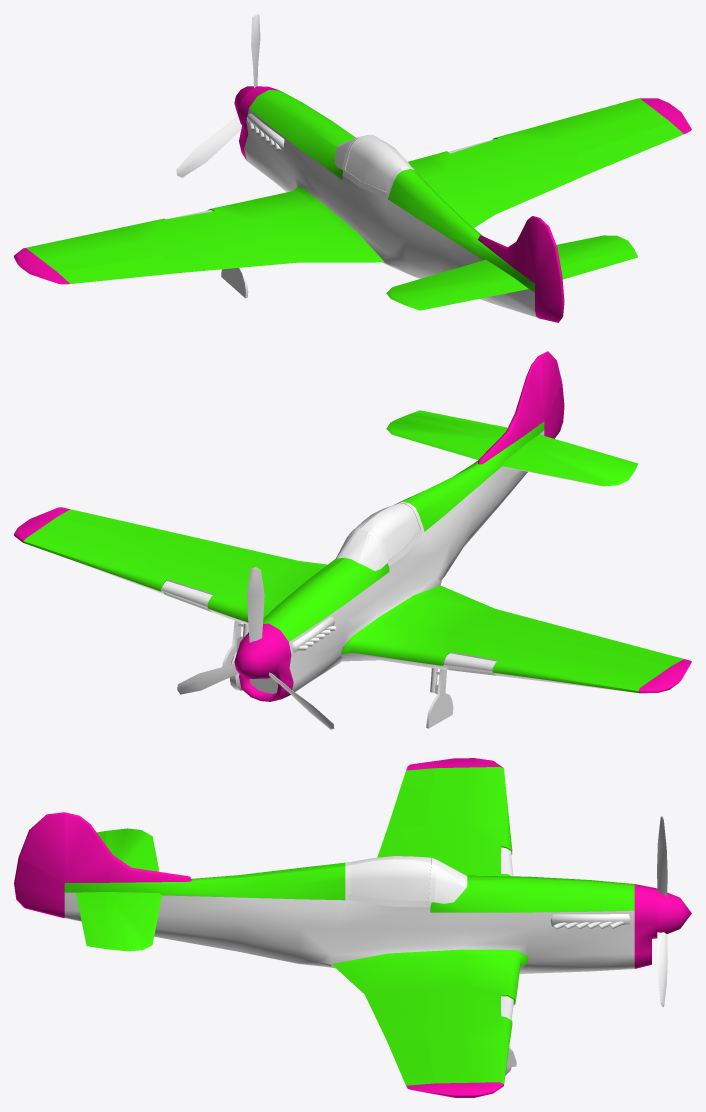
The model's file is acm1pt.FBX.
3 views of the same model, one above another, from view 1: azimuth 30°, elevation 25°; view 2: azimuth 150°, elevation 25°; view 3: azimuth 270°, elevation 25° (orthographic). The views are drawn at different scales.
Parts seen in each view (by area): view 1: chassis, door_lf_ok, elevator_r, rudder, aileron_r, aileron_l, static_prop, gear_l; view 2: chassis, static_prop, door_lf_ok, elevator_r, rudder, aileron_r, aileron_l, gear_l; view 3: chassis, rudder, door_lf_ok, aileron_l, aileron_r, elevator_r, static_prop.
Part boxes in pixels (<box>): chassis: <box>14,86,691,318</box>; door_lf_ok: <box>342,134,413,197</box>; elevator_r: <box>405,248,637,310</box>; rudder: <box>535,218,564,322</box>; aileron_r: <box>575,122,683,171</box>; aileron_l: <box>57,256,178,283</box>; static_prop: <box>176,14,260,177</box>; gear_l: <box>221,267,248,298</box>; chassis: <box>14,355,691,701</box>; static_prop: <box>177,567,334,729</box>; door_lf_ok: <box>349,502,423,566</box>; elevator_r: <box>408,410,637,471</box>; rudder: <box>540,351,564,438</box>; aileron_r: <box>57,509,178,543</box>; aileron_l: <box>575,635,683,666</box>; gear_l: <box>426,668,453,728</box>; chassis: <box>64,758,691,1097</box>; rudder: <box>14,812,64,918</box>; door_lf_ok: <box>348,856,433,907</box>; aileron_l: <box>387,768,434,828</box>; aileron_r: <box>387,1038,433,1085</box>; elevator_r: <box>76,831,105,948</box>; static_prop: <box>657,816,667,1007</box>.
Size of the model in its own units: 1180 by 359 by 1006.
